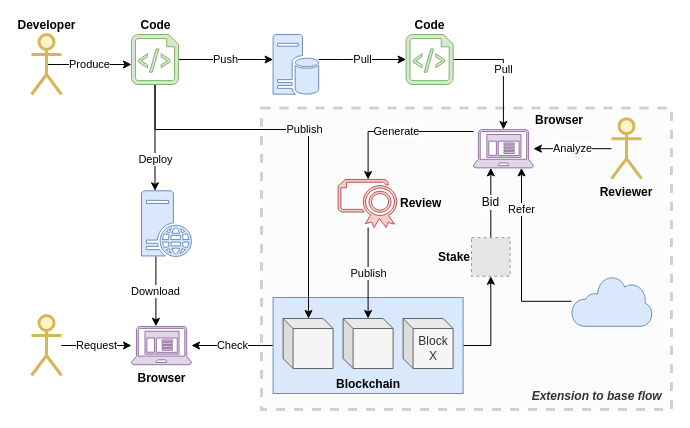
Image size: 690x428. Some labels were removed from this diagram. Grey dashed boxes stand in for pictures. Each missing label, with the centre of its shape:
"Block X-1" belongs at [367,343].
"Block X-2" belongs at [307,343].
"Code Repository" belongs at [295,64].
"External Storage" belongs at [611,300].
"User" belongs at [46,345].
"WEB Server" belongs at [166,223].
